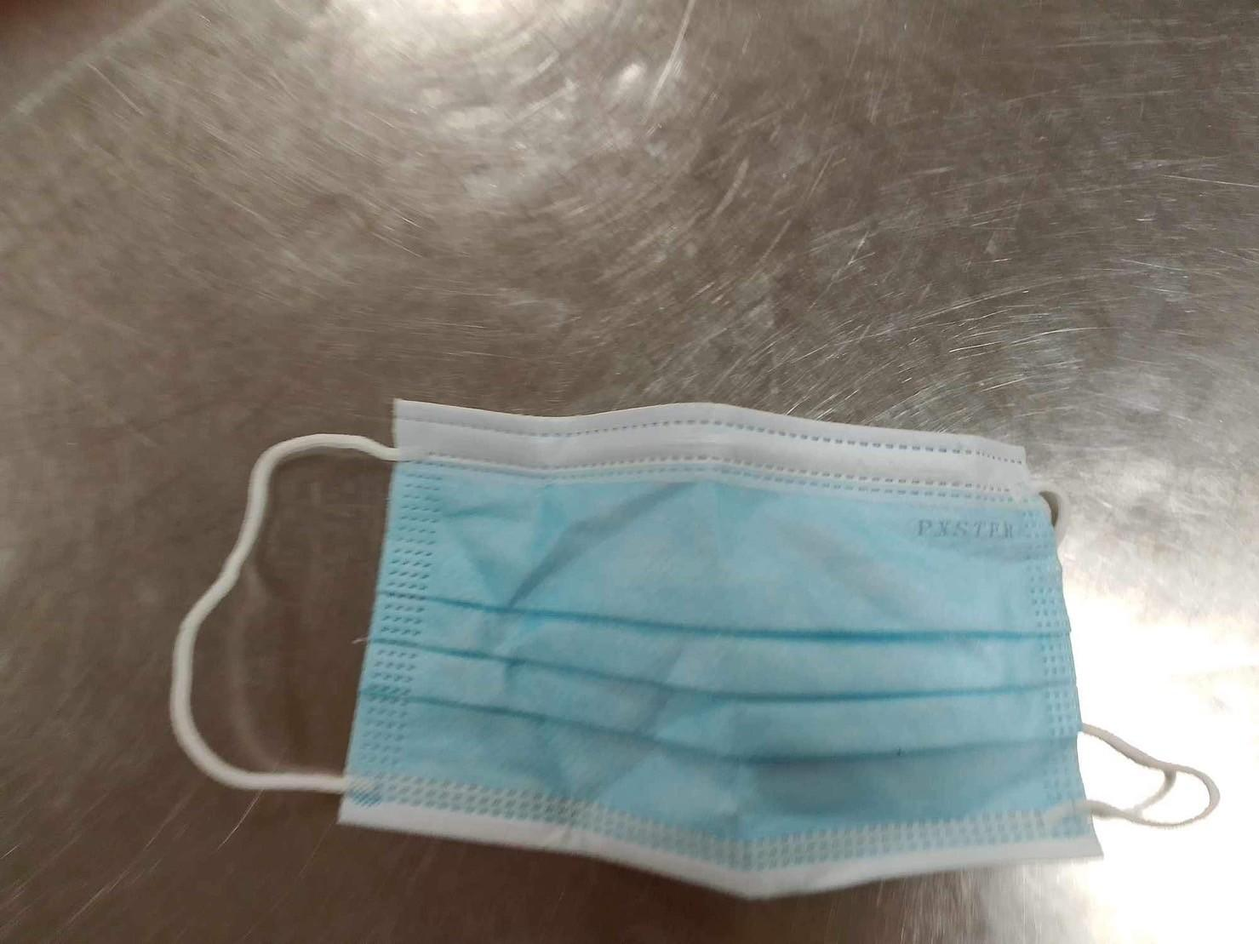Sharps: (168, 394, 1216, 900)
